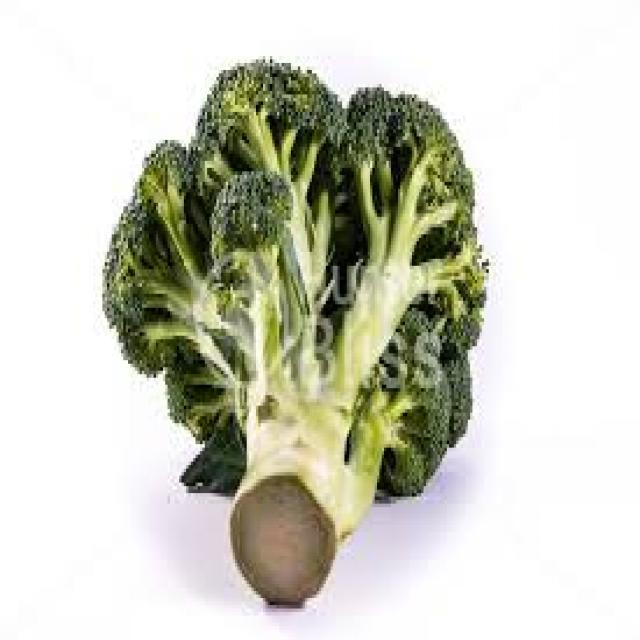organic waste: (100, 52, 489, 605)
